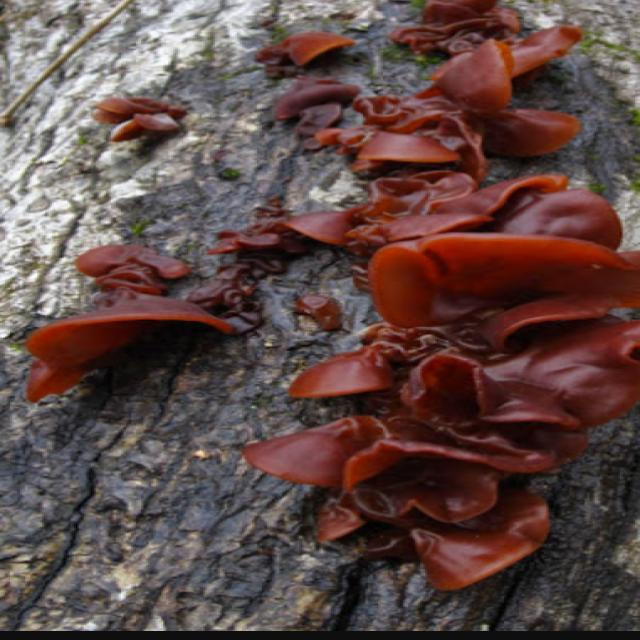Fase Muda: (270, 12, 621, 590), (25, 241, 240, 417), (75, 87, 213, 160)
